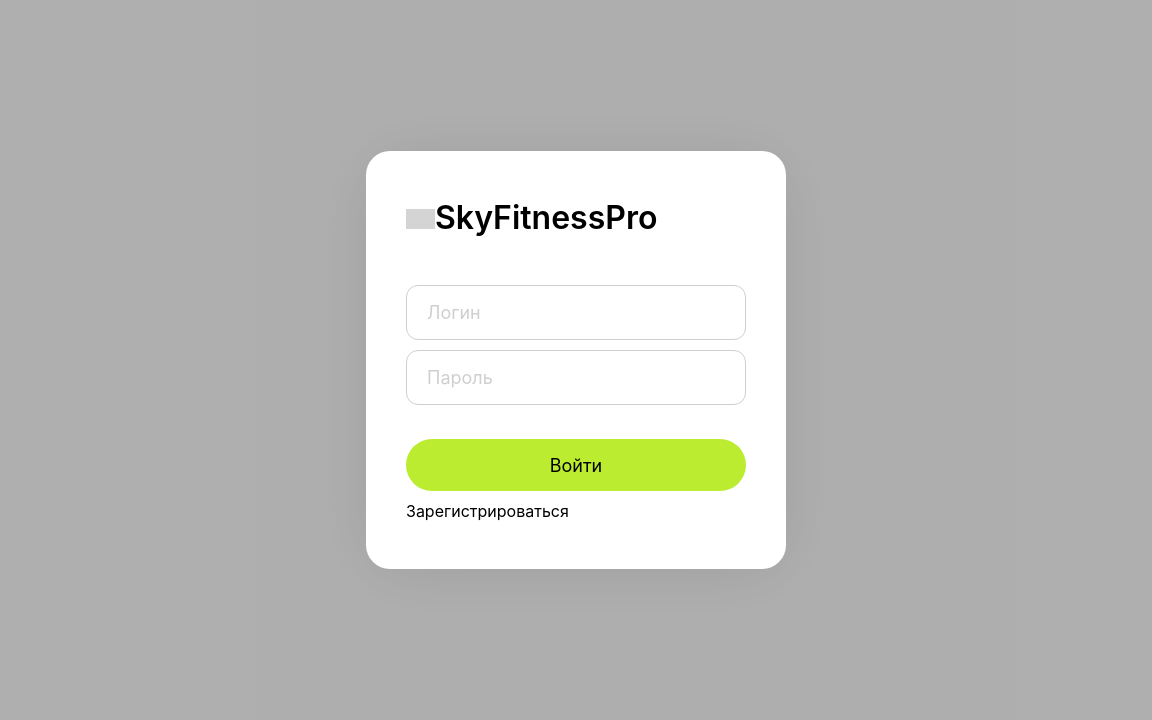
Компонент LoginModal › должен показывать ошибку при пустом email
Note: Вводим только пароль
Type "password123" into the password field with placeholder "Пароль". click: (576, 378)
box: top-left (406, 350), bottom-right (746, 405)
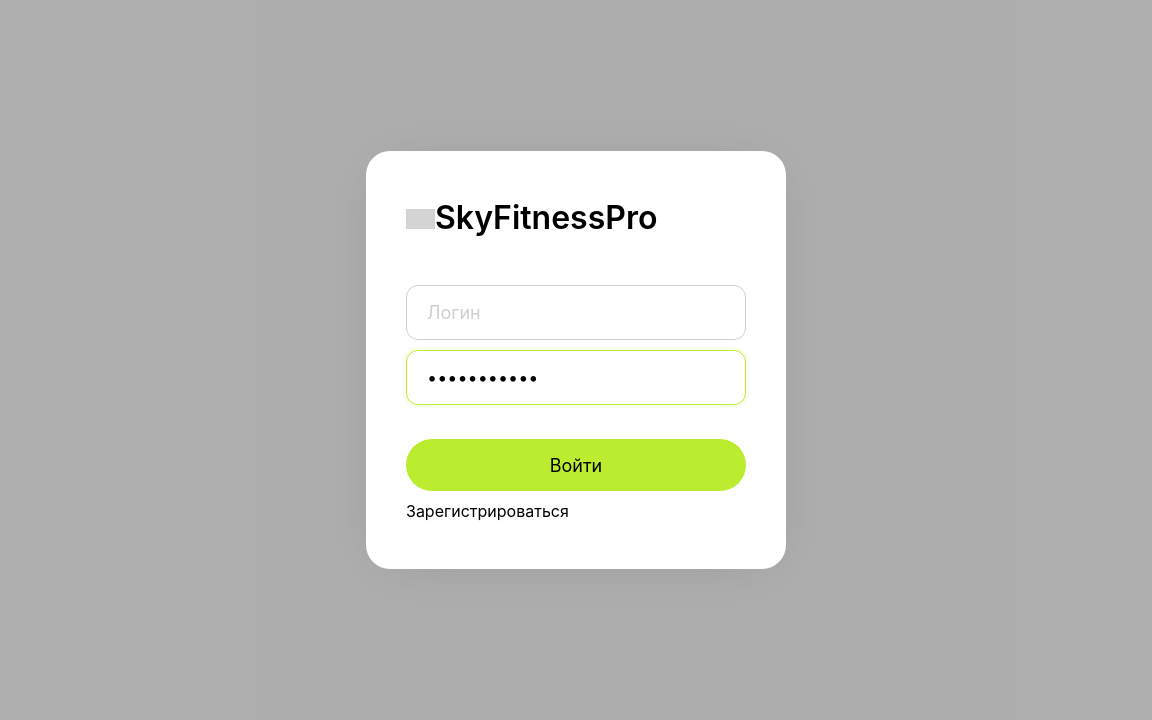
Click the button "Войти". click: (576, 465)
box: top-left (406, 439), bottom-right (746, 491)
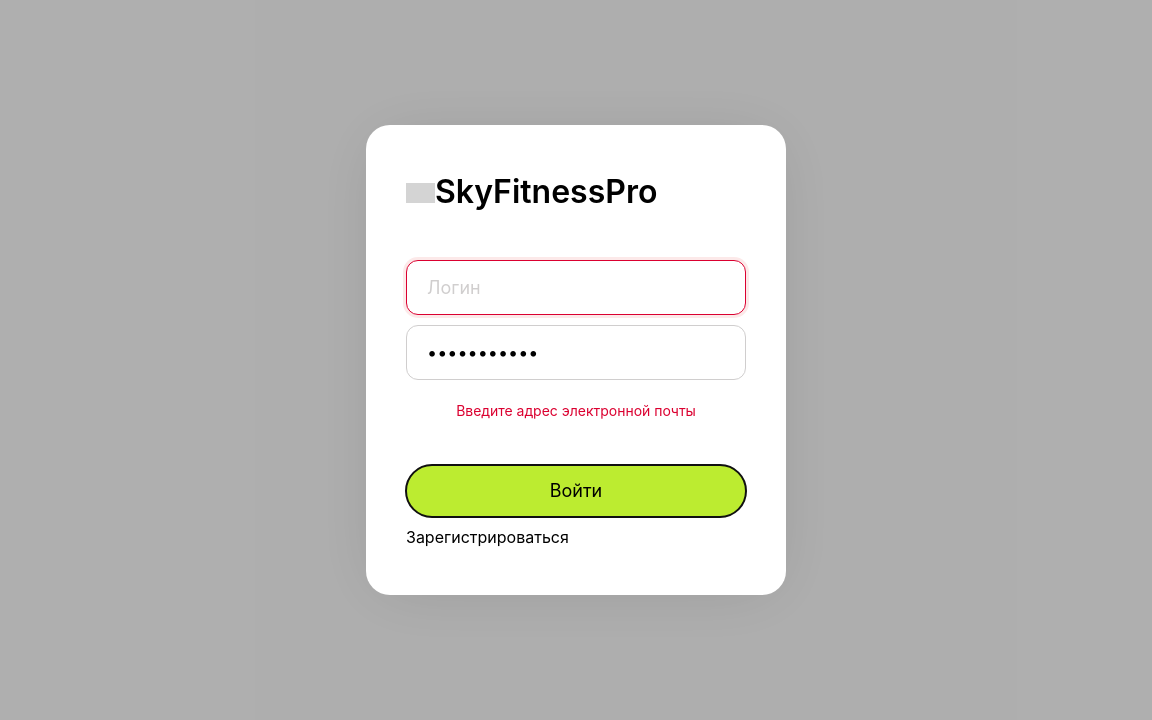
Now the text "Введите адрес электронной почты" is shown, box top-left (456, 402), bottom-right (696, 419)
